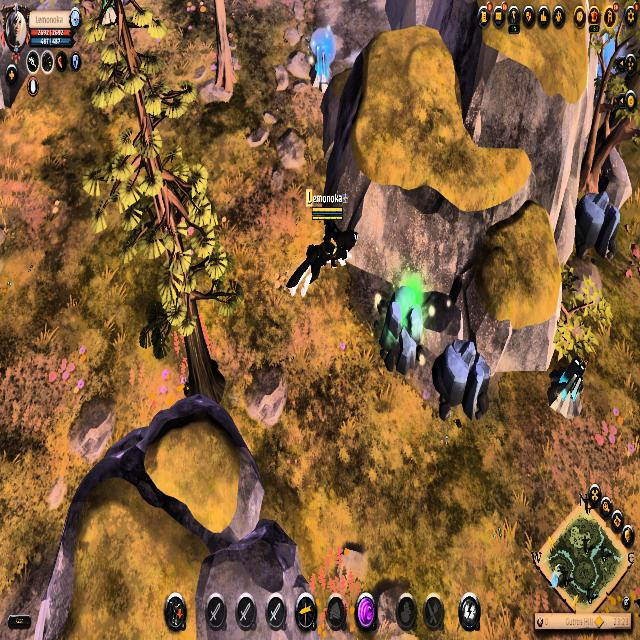ore tier 4: (548, 358, 590, 424), (305, 38, 334, 94)
rock tier 4: (430, 332, 494, 421), (378, 278, 428, 378), (574, 186, 624, 266)
